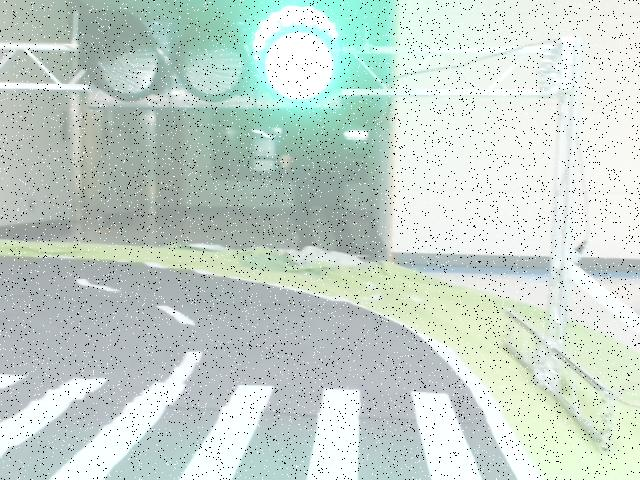crosswalk: (0, 365, 517, 480)
traffic light-green-: (82, 9, 340, 107)
